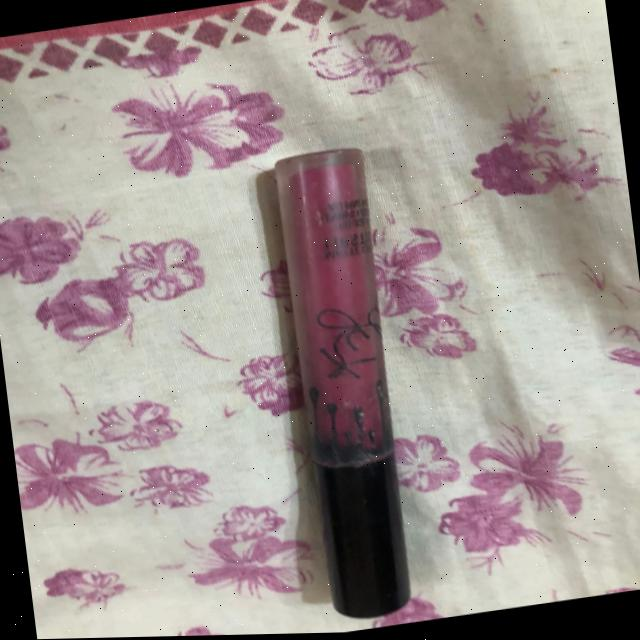lip gloss: (249, 135, 441, 636)
